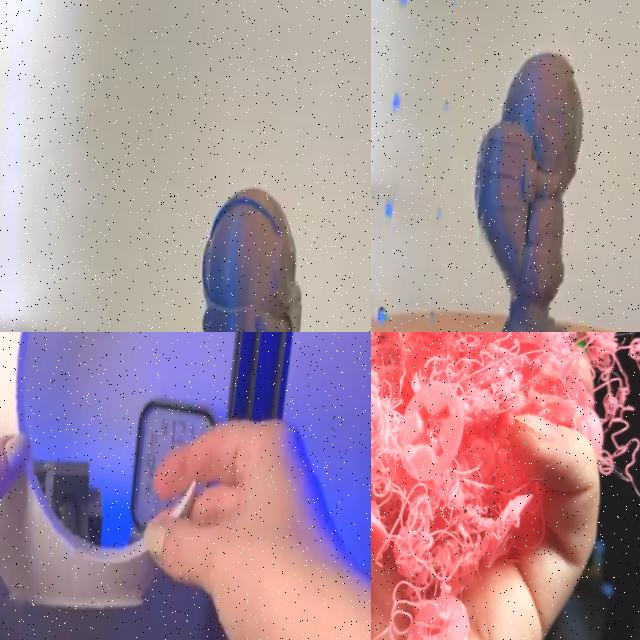spaghetti: (371, 332, 640, 640)
